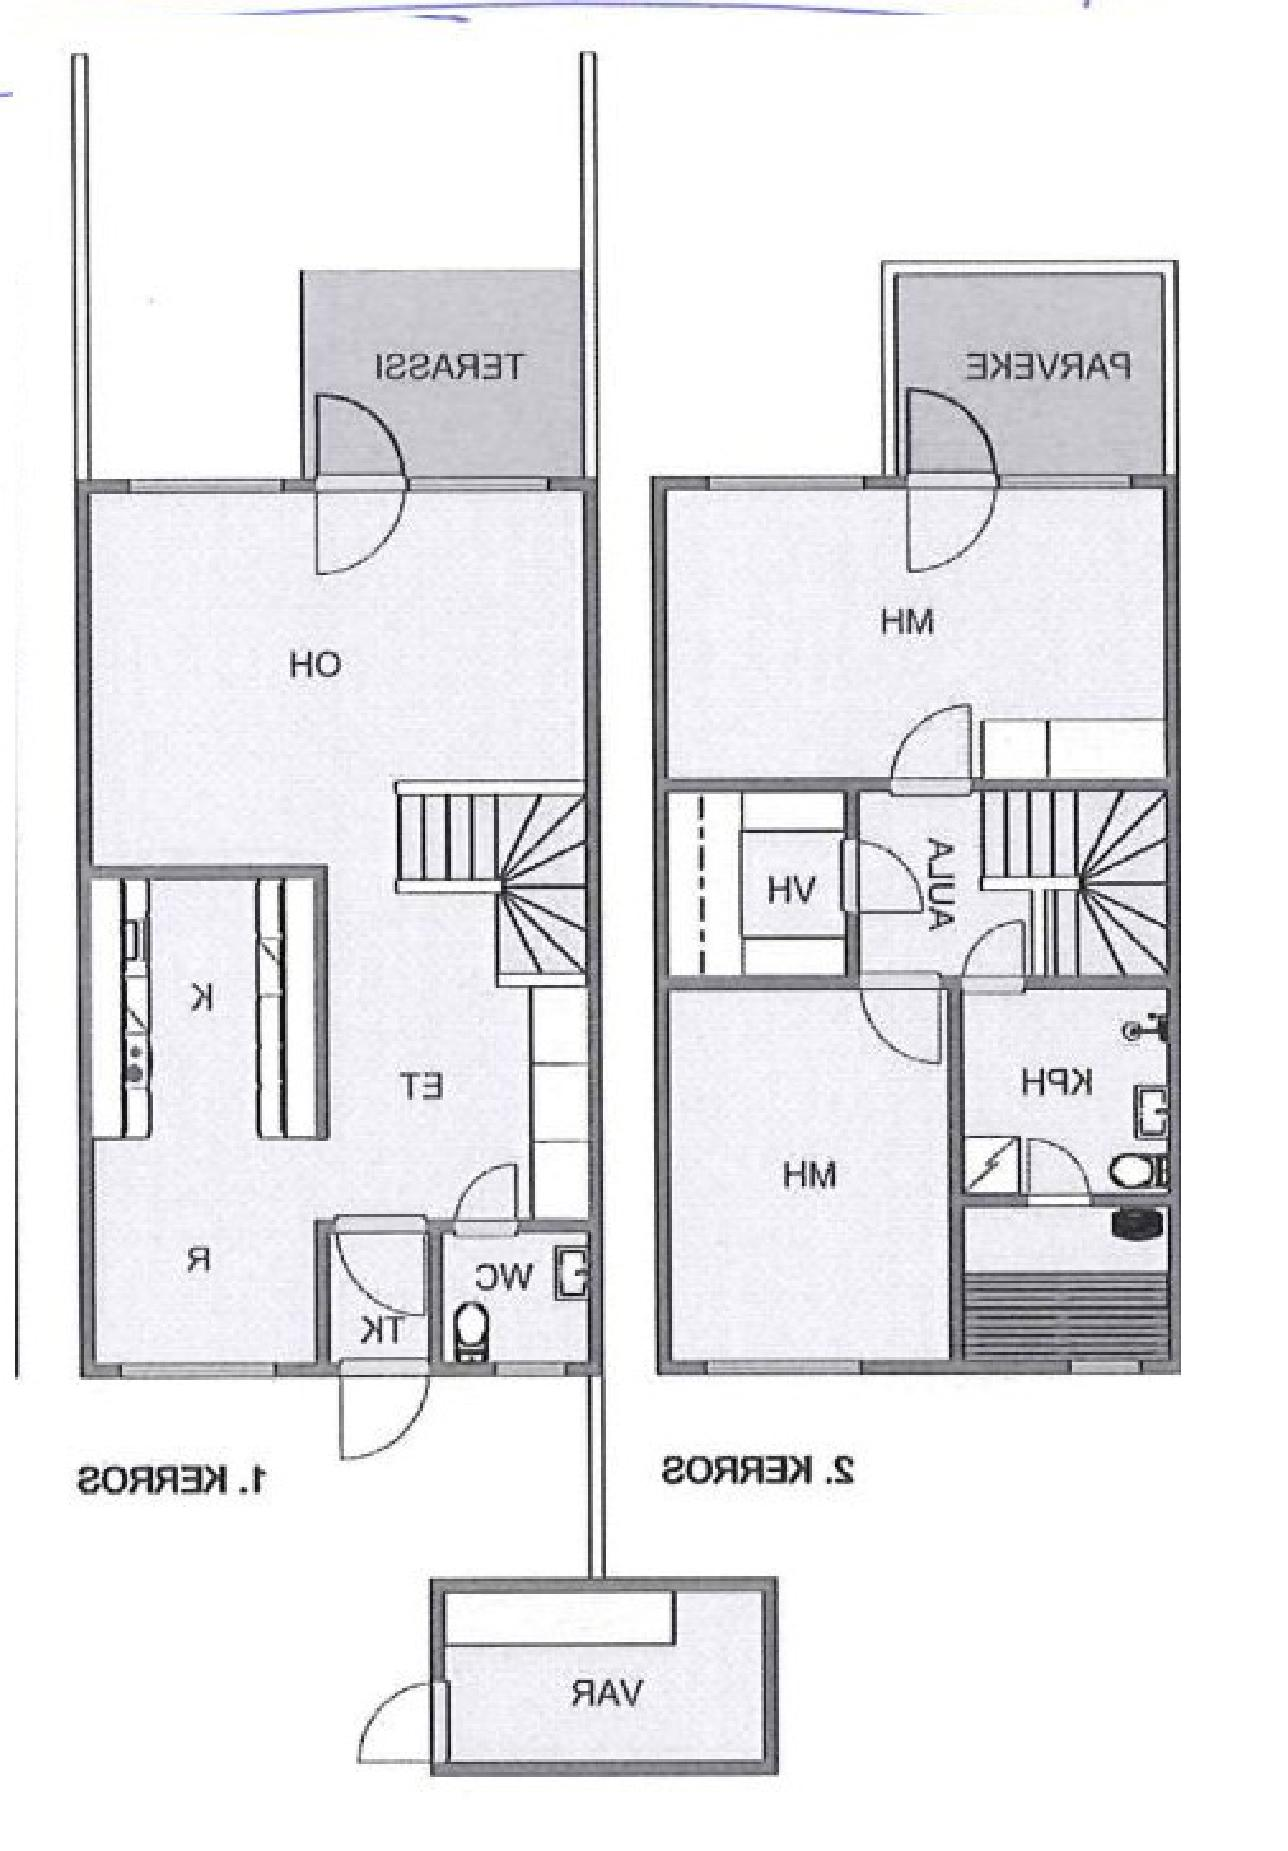door: (305, 383, 413, 578), (899, 388, 1005, 579), (305, 1347, 450, 1466), (336, 1674, 464, 1769), (856, 965, 948, 1063), (346, 1219, 446, 1309), (870, 702, 977, 782), (825, 840, 932, 911), (1012, 1135, 1097, 1212), (449, 1169, 530, 1234), (953, 916, 1028, 978)
window: (127, 1357, 281, 1394), (703, 1357, 863, 1390), (413, 466, 544, 504), (713, 471, 870, 499), (115, 475, 295, 499), (1055, 1354, 1140, 1388), (993, 475, 1131, 488)
zone: (91, 498, 584, 1371), (666, 487, 1166, 781), (669, 994, 946, 1357), (297, 271, 581, 475), (889, 274, 1164, 475), (440, 1589, 759, 1755), (856, 798, 1154, 969), (962, 980, 1164, 1191), (668, 782, 832, 969), (965, 1208, 1161, 1357), (437, 1221, 579, 1352), (336, 1234, 434, 1357)
